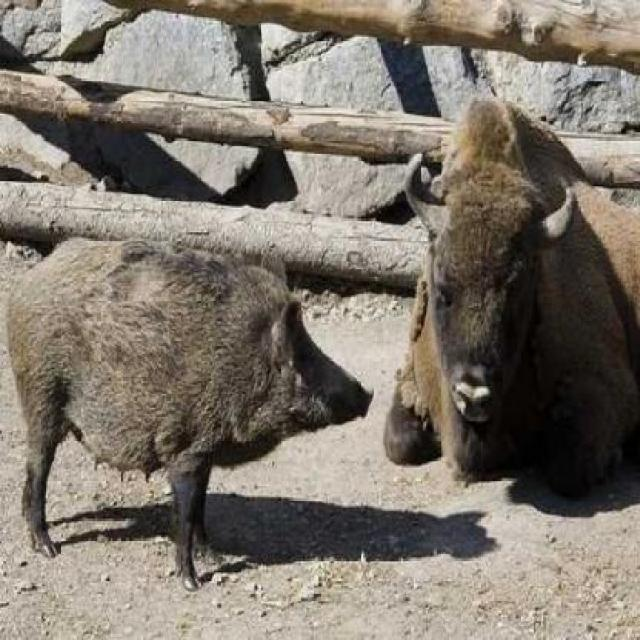pig: (334, 2, 638, 433)
